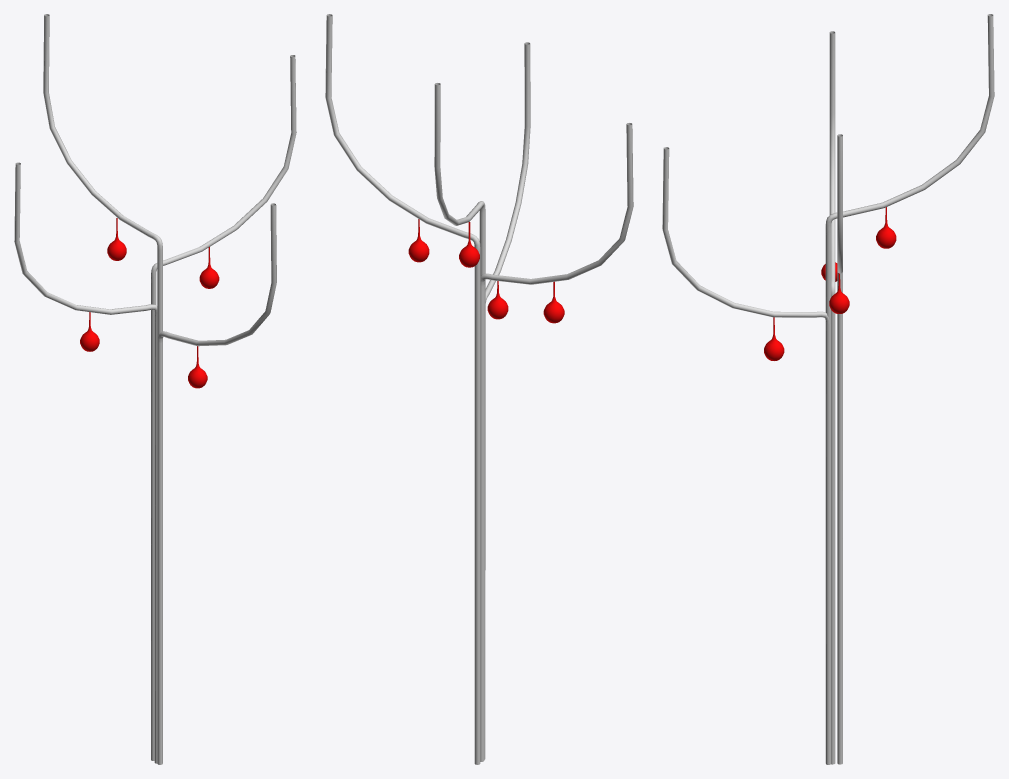
File: wattle1.fbx
The picture shows the model from 3 angles, left to right: view 1: azimuth 30°, elevation 25°; view 2: azimuth 150°, elevation 25°; view 3: azimuth 270°, elevation 25°; orthographic projection. The views are drawn at different scales.
Visible parts, largest first — view 1: wattle1_LOD0; view 2: wattle1_LOD0; view 3: wattle1_LOD0.
Part boxes in pixels (left/top/right/bottom): wattle1_LOD0: left=14, top=14, right=296, bottom=764; wattle1_LOD0: left=325, top=14, right=633, bottom=764; wattle1_LOD0: left=662, top=14, right=994, bottom=764.
Size of what is drawn, in the model's own units: 1169 by 2745 by 1131.
